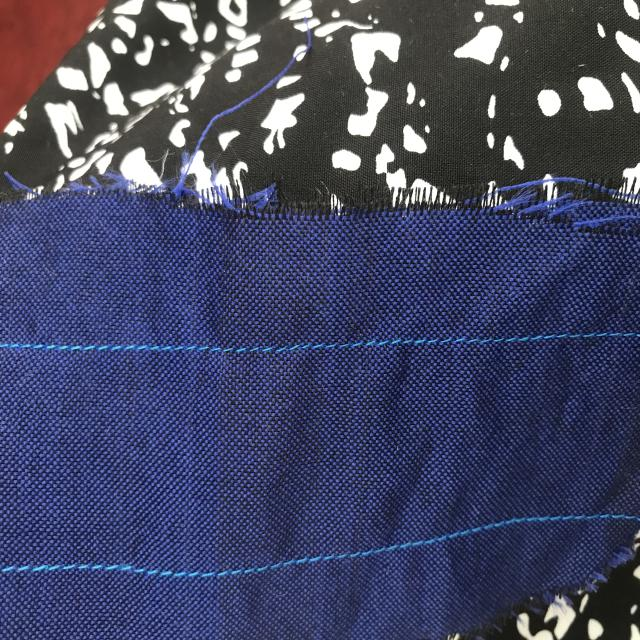good: (130, 337, 360, 363), (452, 328, 600, 349), (32, 336, 103, 361)
